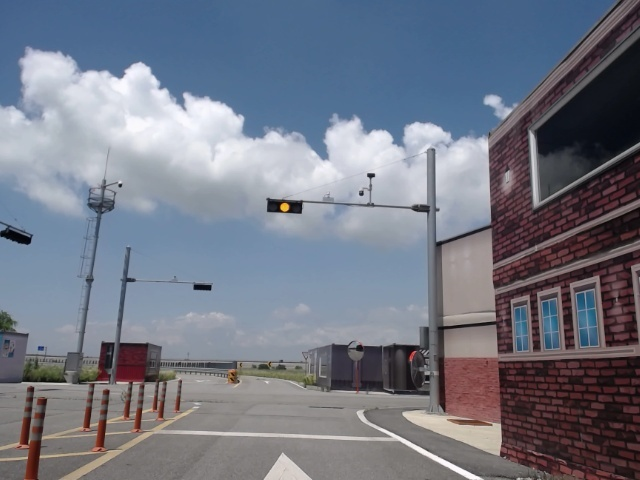orange_3: (268, 198, 302, 214)
